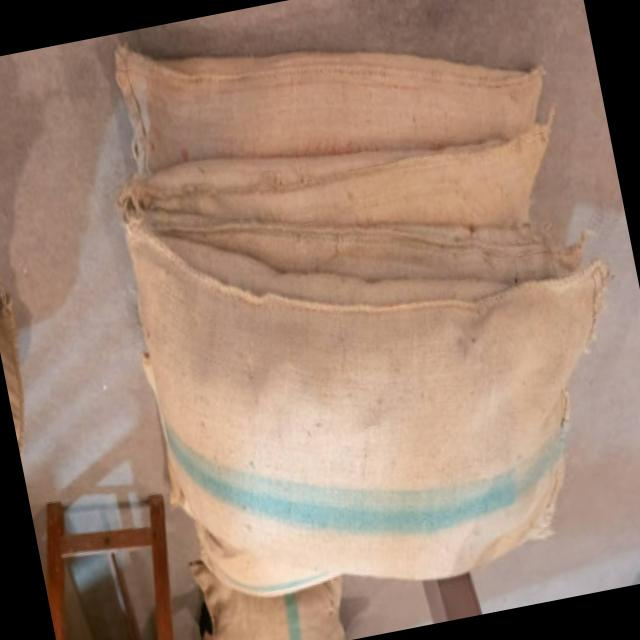KantongSemen: (81, 0, 640, 633)
